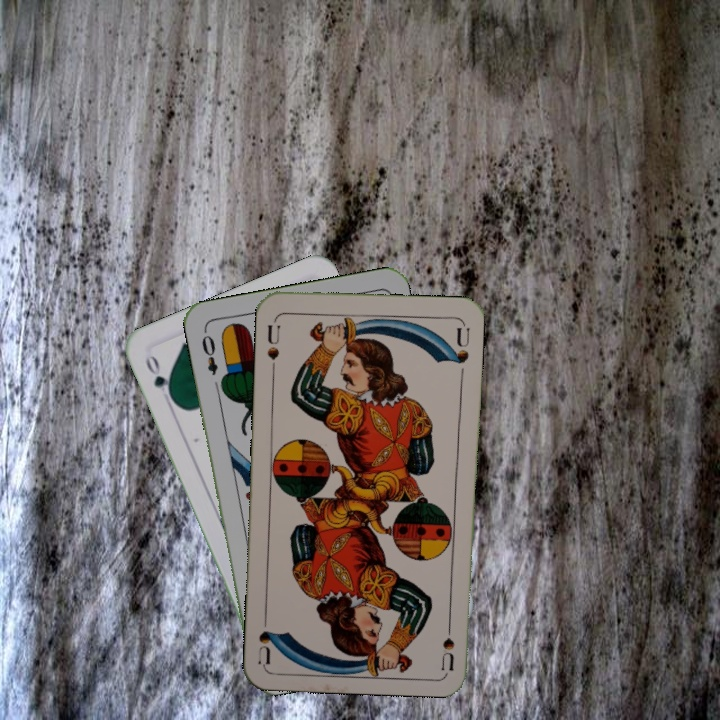EO: (197, 331, 220, 378)
GO: (141, 351, 177, 406)
SU: (437, 612, 457, 671), (263, 321, 282, 374)
